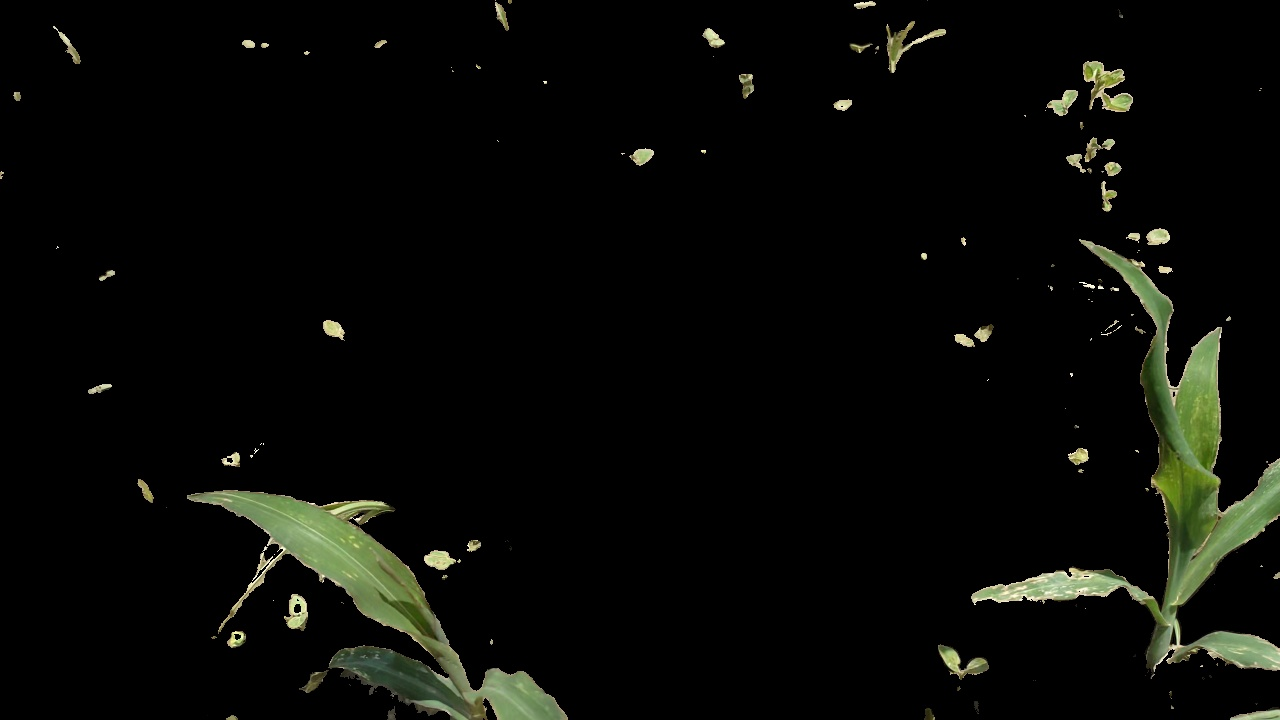crop: (963, 249, 1280, 720), (176, 484, 581, 720)
weed: (1053, 132, 1152, 217), (1035, 45, 1142, 119), (842, 18, 953, 81), (933, 632, 989, 679), (421, 539, 495, 569), (282, 588, 322, 642), (1121, 221, 1182, 251), (952, 324, 998, 348)
